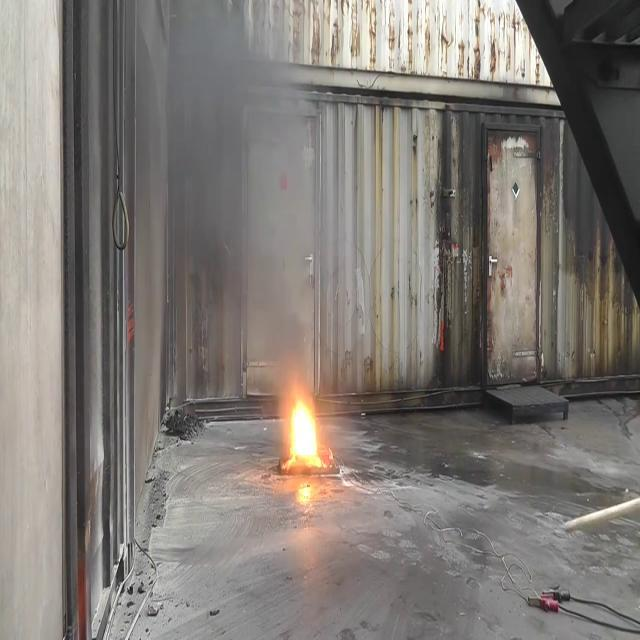Fire: (286, 384, 324, 476)
Smoke: (143, 1, 319, 364)
